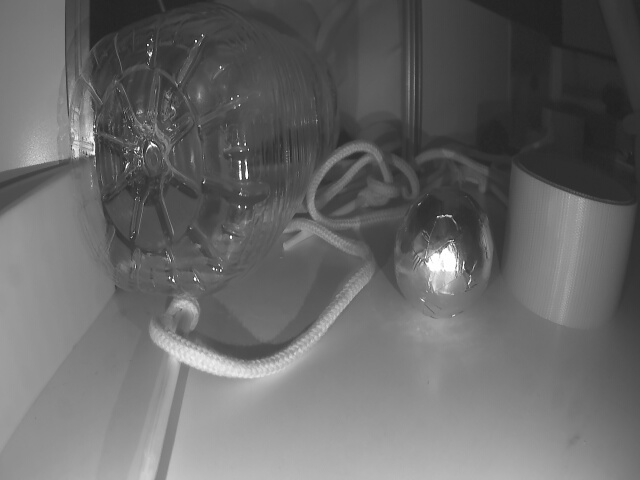Live: (395, 184, 498, 311)
Point: (0, 155, 100, 480)
